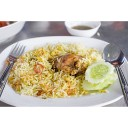briyani: (16, 51, 85, 98)
